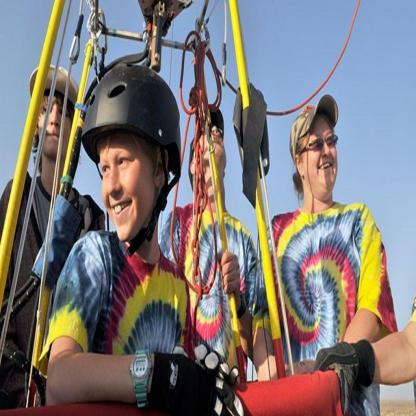face: (102, 121, 151, 239), (304, 118, 339, 193), (39, 83, 73, 157), (199, 119, 228, 163)
